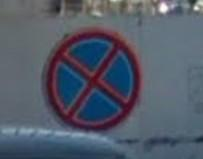No Parking: (47, 32, 142, 133)
